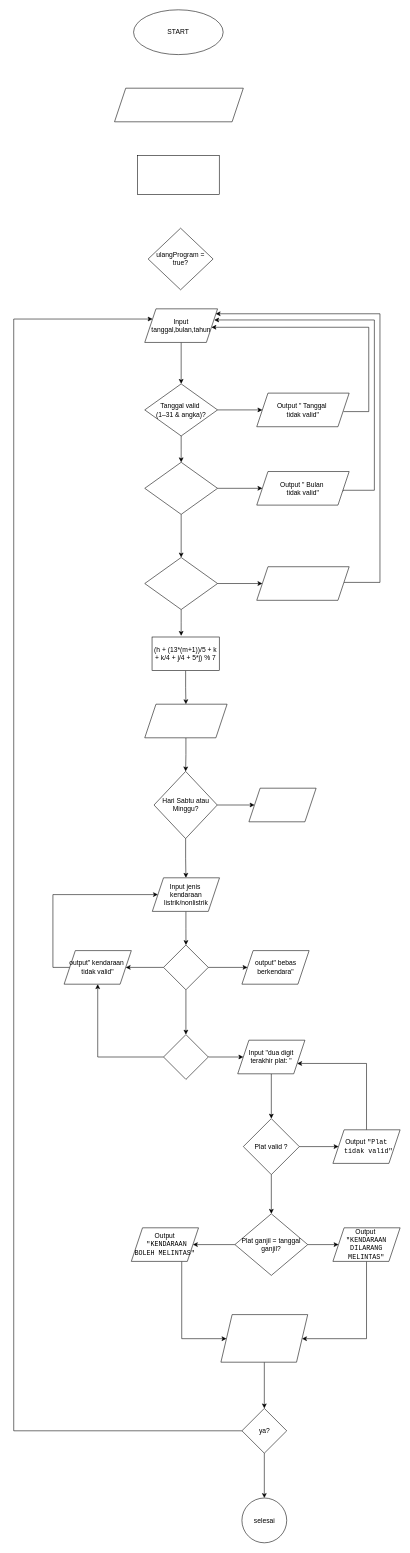
The diagram is 410 pixels wide and 1553 high, and some of its shapes have lost their labels. Here are the shapes that lost their labels. From the top down, the centre of each, then its label:
(178,105): OUTPUT "SELAMAT DATANG DI PROGRAM SISTEM VERIFIKASI PLAT"
(178,175): ulangProgram ← true
(181,488): Bulan valid (1–12 & angka)?
(181,583): Tahun valid (angka)?
(302,583): Output " Tahun tidak valid"
(185,721): Output"nama hari: "
(282,805): Output "Tidak berlaku ganjil genap"
(185,967): Kendaraan listrik?
(185,1056): Kendaraan nonlistrik?
(264,1338): Mau cek plat lagi? (ya/tidak)
